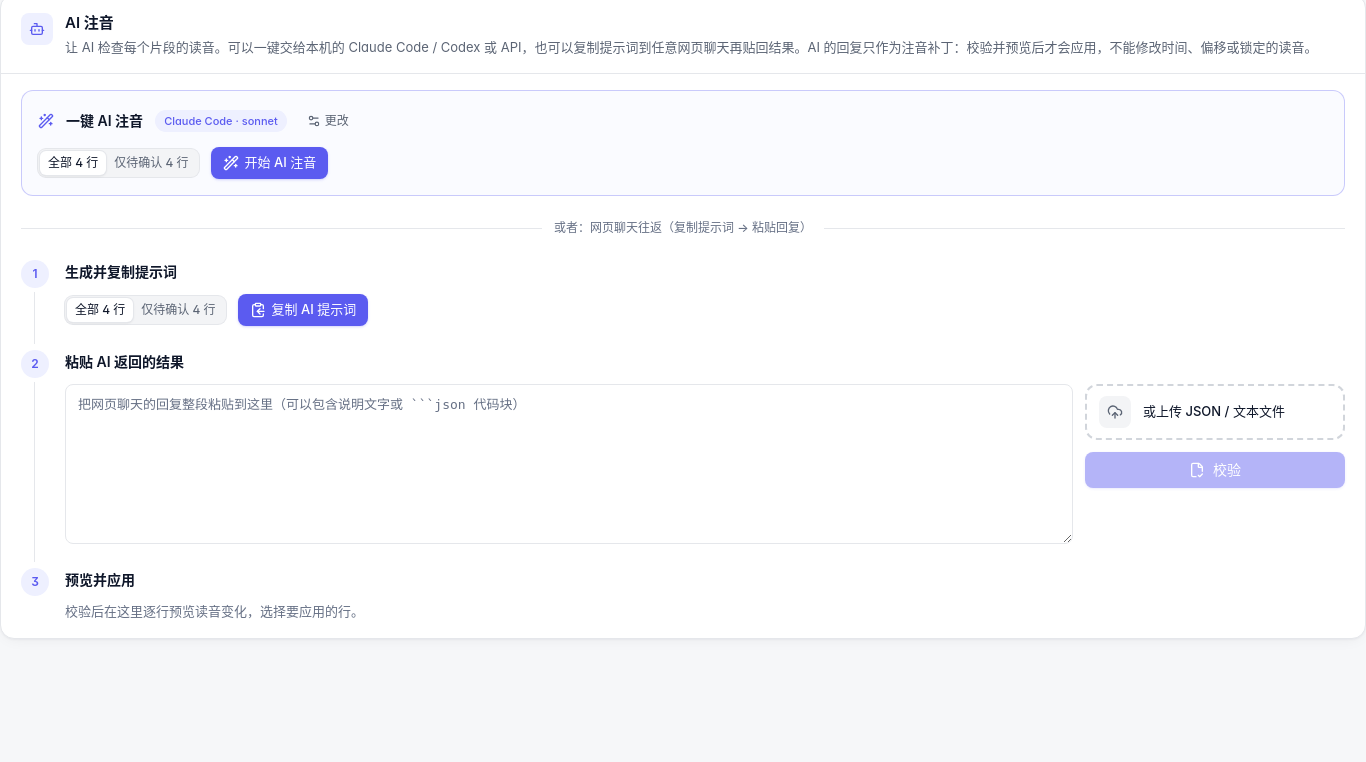
one-click AI readings in the detailed mode › sends the prompt through the configured CLI and shows the validated preview
Expected: the text "Claude Code · sonnet" is shown, [155,110,287,132]
Click the button "开始 AI 注音" at (269, 163), box [211,147,328,179]
(page scrolled)
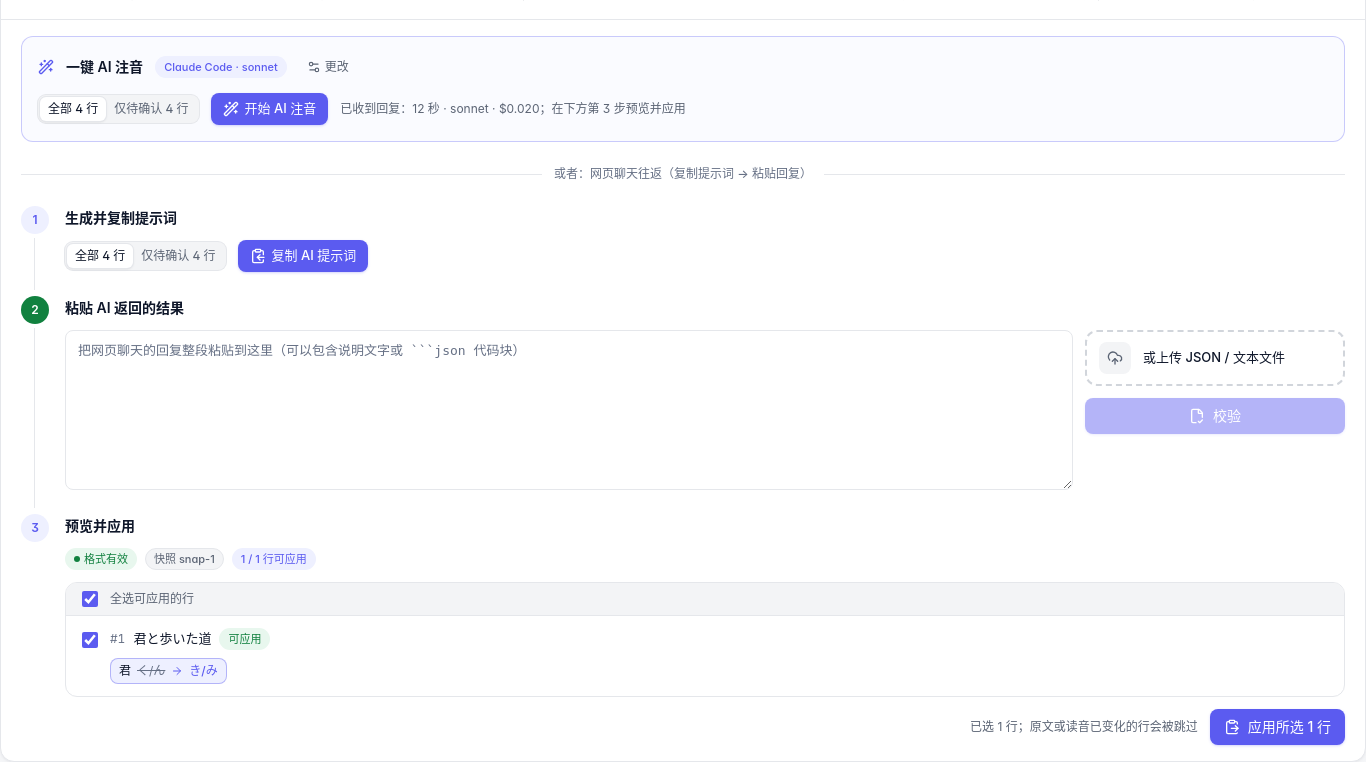
Expected: the text "已收到回复：12 秒 · sonnet · $0.020；在下方第 3 步预览并应用" is shown, [340,101,686,117]
Expected: the button "应用所选 1 行" is enabled, [1210,709,1345,745]
